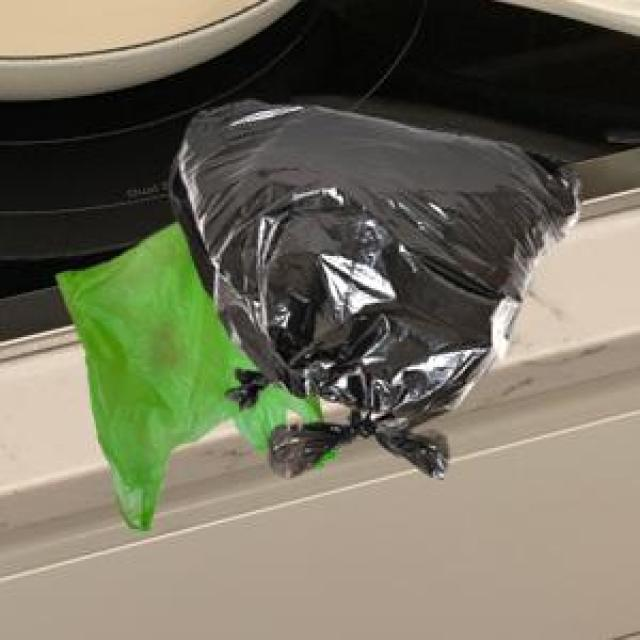miscellaneous trash: (177, 96, 574, 474), (166, 94, 516, 405)
